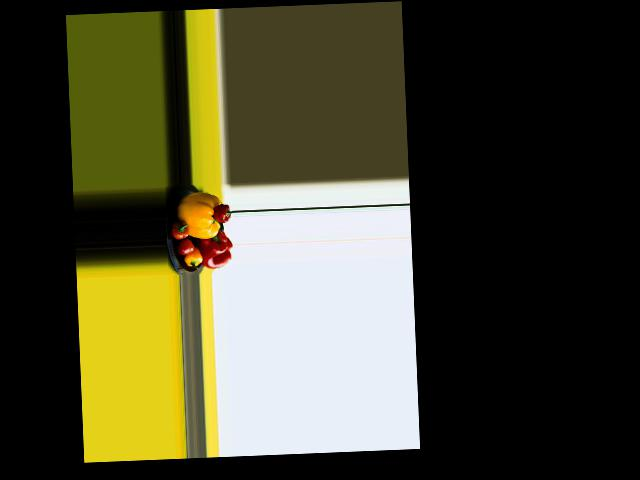bell_pepper: (184, 249, 203, 269)
